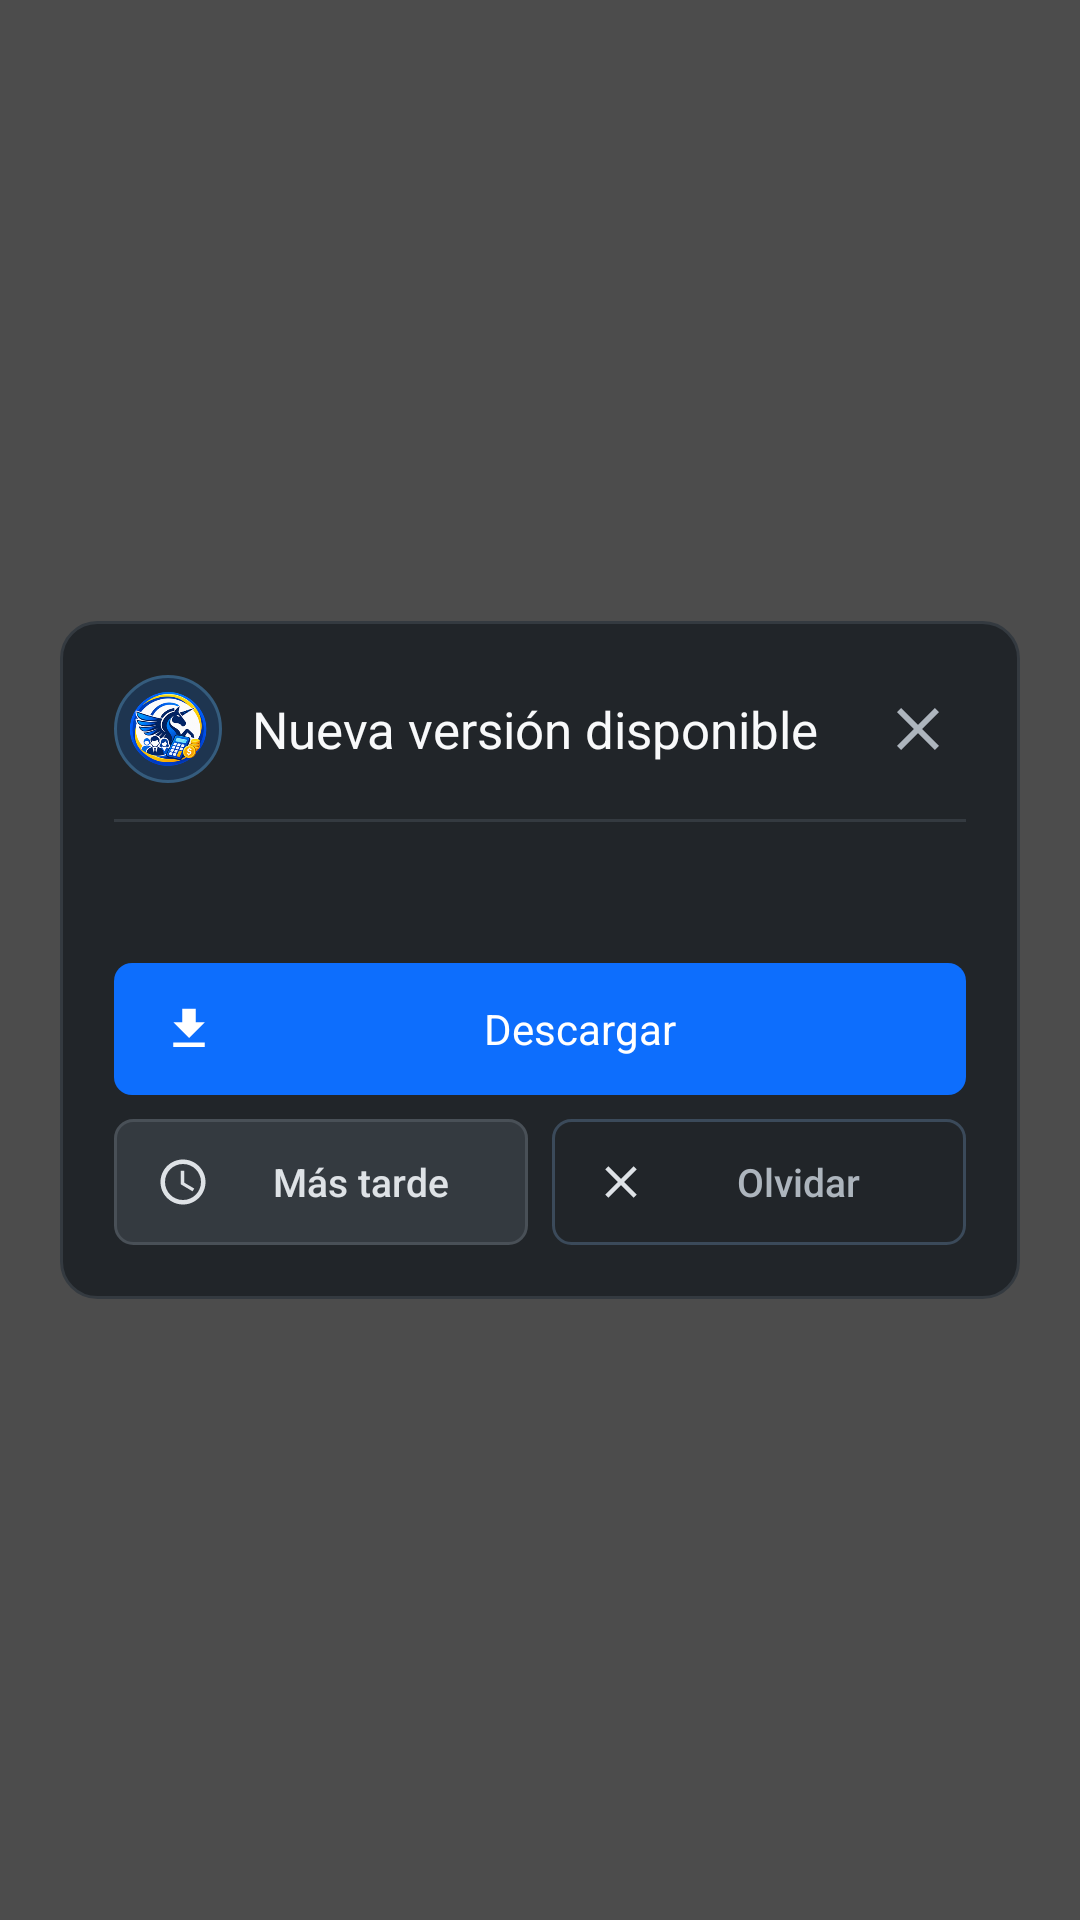

Icon click points for this 1080×1920 phone screenshot, format point (x, y):
Cerrar: point (918, 729)
